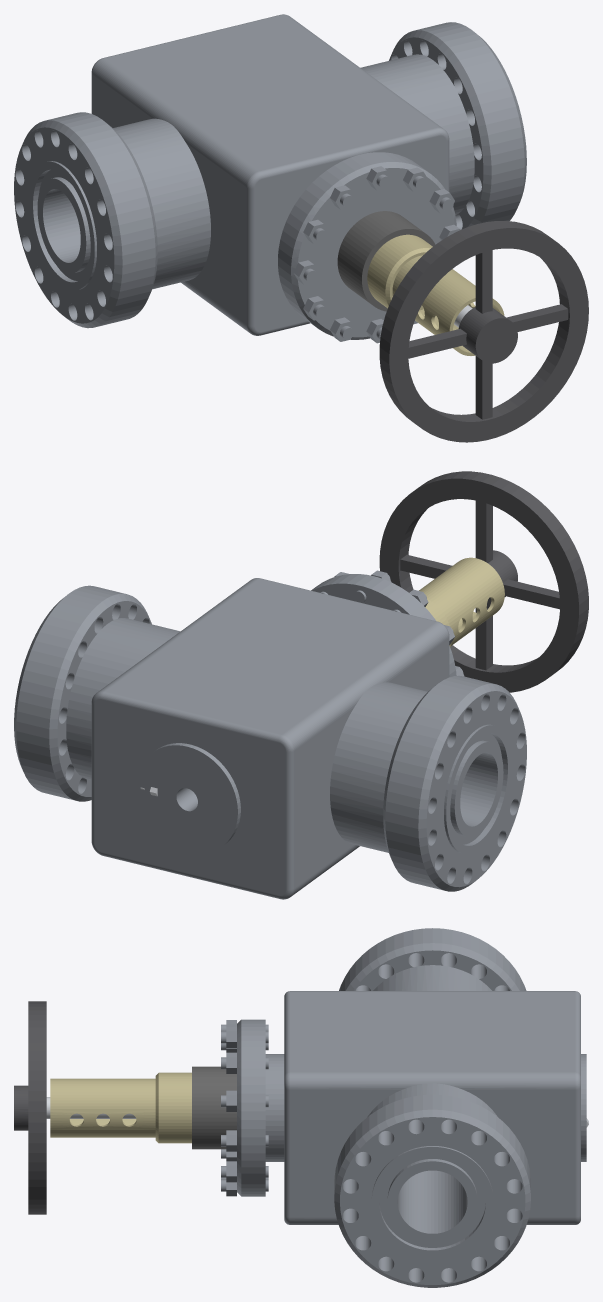
The model's file is WH-GATEVALVE.7-15K.glb.
The picture shows the model from 3 angles, top to bottom: view 1: azimuth 30°, elevation 25°; view 2: azimuth 150°, elevation 25°; view 3: azimuth 270°, elevation 25°; orthographic projection. The views are drawn at different scales.
Parts seen in each view (by area): view 1: WH-GATEVALVE-BODY, WH-GATEVALVE-FLANGE-IN, WH-GATEVALVE-HANDWHEEL, WH-GATEVALVE-BONNET, WH-GATEVALVE-FLANGE-OUT, WH-GATEVALVE-BEARING, WH-GATEVALVE-PACKING; view 2: WH-GATEVALVE-BODY, WH-GATEVALVE-FLANGE-IN, WH-GATEVALVE-HANDWHEEL, WH-GATEVALVE-FLANGE-OUT, WH-GATEVALVE-BEARING, WH-GATEVALVE-BONNET; view 3: WH-GATEVALVE-BODY, WH-GATEVALVE-FLANGE-OUT, WH-GATEVALVE-BEARING, WH-GATEVALVE-BONNET, WH-GATEVALVE-FLANGE-IN, WH-GATEVALVE-HANDWHEEL, WH-GATEVALVE-PACKING.
Boxes of the visible parts, x1,y1,x2,y2 form: WH-GATEVALVE-BODY: [91, 14, 474, 335]; WH-GATEVALVE-FLANGE-IN: [14, 112, 157, 328]; WH-GATEVALVE-HANDWHEEL: [379, 221, 588, 442]; WH-GATEVALVE-BONNET: [278, 152, 460, 343]; WH-GATEVALVE-FLANGE-OUT: [389, 22, 526, 229]; WH-GATEVALVE-BEARING: [367, 234, 504, 355]; WH-GATEVALVE-PACKING: [337, 211, 435, 311]; WH-GATEVALVE-BODY: [66, 578, 449, 899]; WH-GATEVALVE-FLANGE-IN: [383, 675, 526, 891]; WH-GATEVALVE-HANDWHEEL: [379, 471, 588, 692]; WH-GATEVALVE-FLANGE-OUT: [14, 585, 151, 801]; WH-GATEVALVE-BEARING: [419, 557, 504, 647]; WH-GATEVALVE-BONNET: [311, 570, 464, 677]; WH-GATEVALVE-BODY: [265, 965, 586, 1224]; WH-GATEVALVE-FLANGE-OUT: [334, 1094, 530, 1287]; WH-GATEVALVE-BEARING: [50, 1072, 191, 1143]; WH-GATEVALVE-BONNET: [221, 1019, 268, 1196]; WH-GATEVALVE-FLANGE-IN: [339, 928, 526, 990]; WH-GATEVALVE-HANDWHEEL: [14, 1001, 46, 1214]; WH-GATEVALVE-PACKING: [192, 1066, 236, 1149].
Bounding box in the file's own units: 1.14 × 0.5469 × 1.48.
